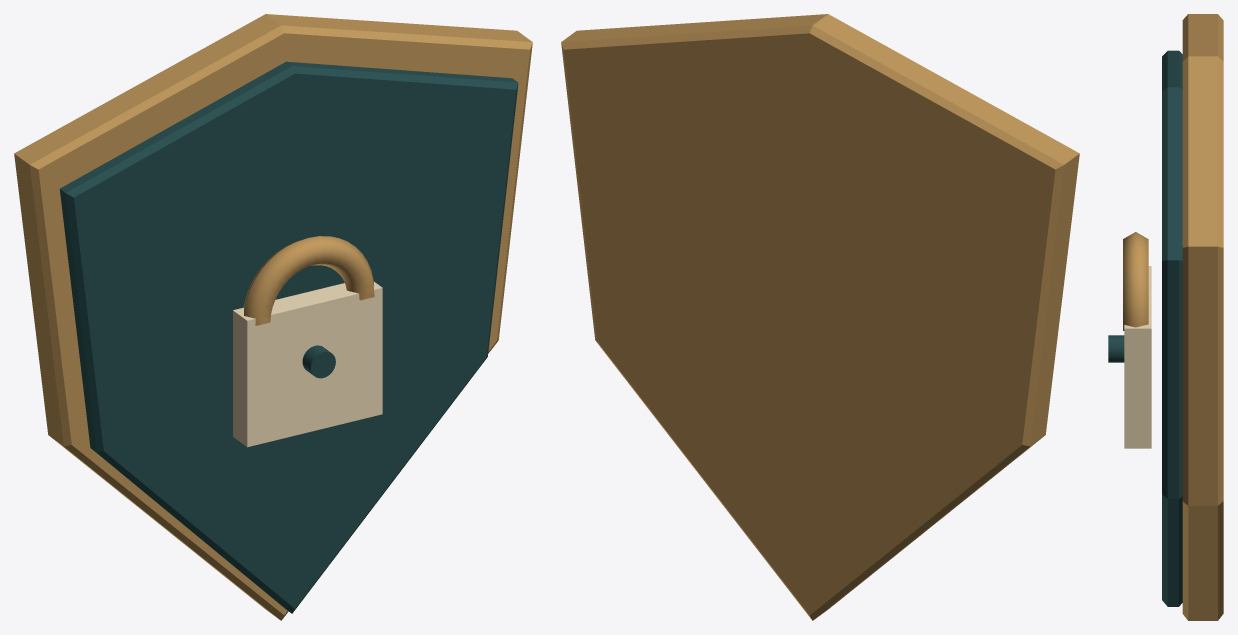
The model's file is shield.glb.
The picture shows the model from 3 angles, left to right: view 1: azimuth 30°, elevation 25°; view 2: azimuth 150°, elevation 25°; view 3: azimuth 270°, elevation 25°; orthographic projection. The views are drawn at different scales.
Parts seen in each view (by area): view 1: face, back, lock, lock-arch, keyhole; view 2: back; view 3: back, face, lock, lock-arch, keyhole.
Boxes of the visible parts, x1,y1,x2,y2 form: face: (59,61,518,613); back: (14,14,532,620); lock: (233,281,382,447); lock-arch: (244,236,374,325); keyhole: (302,345,335,378); back: (561,14,1079,620); back: (1182,14,1223,620); face: (1162,50,1182,606); lock: (1124,266,1151,448); lock-arch: (1123,232,1148,330); keyhole: (1108,335,1124,362).
Bounding box in the file's own units: 2.41 × 2.73 × 0.505.
